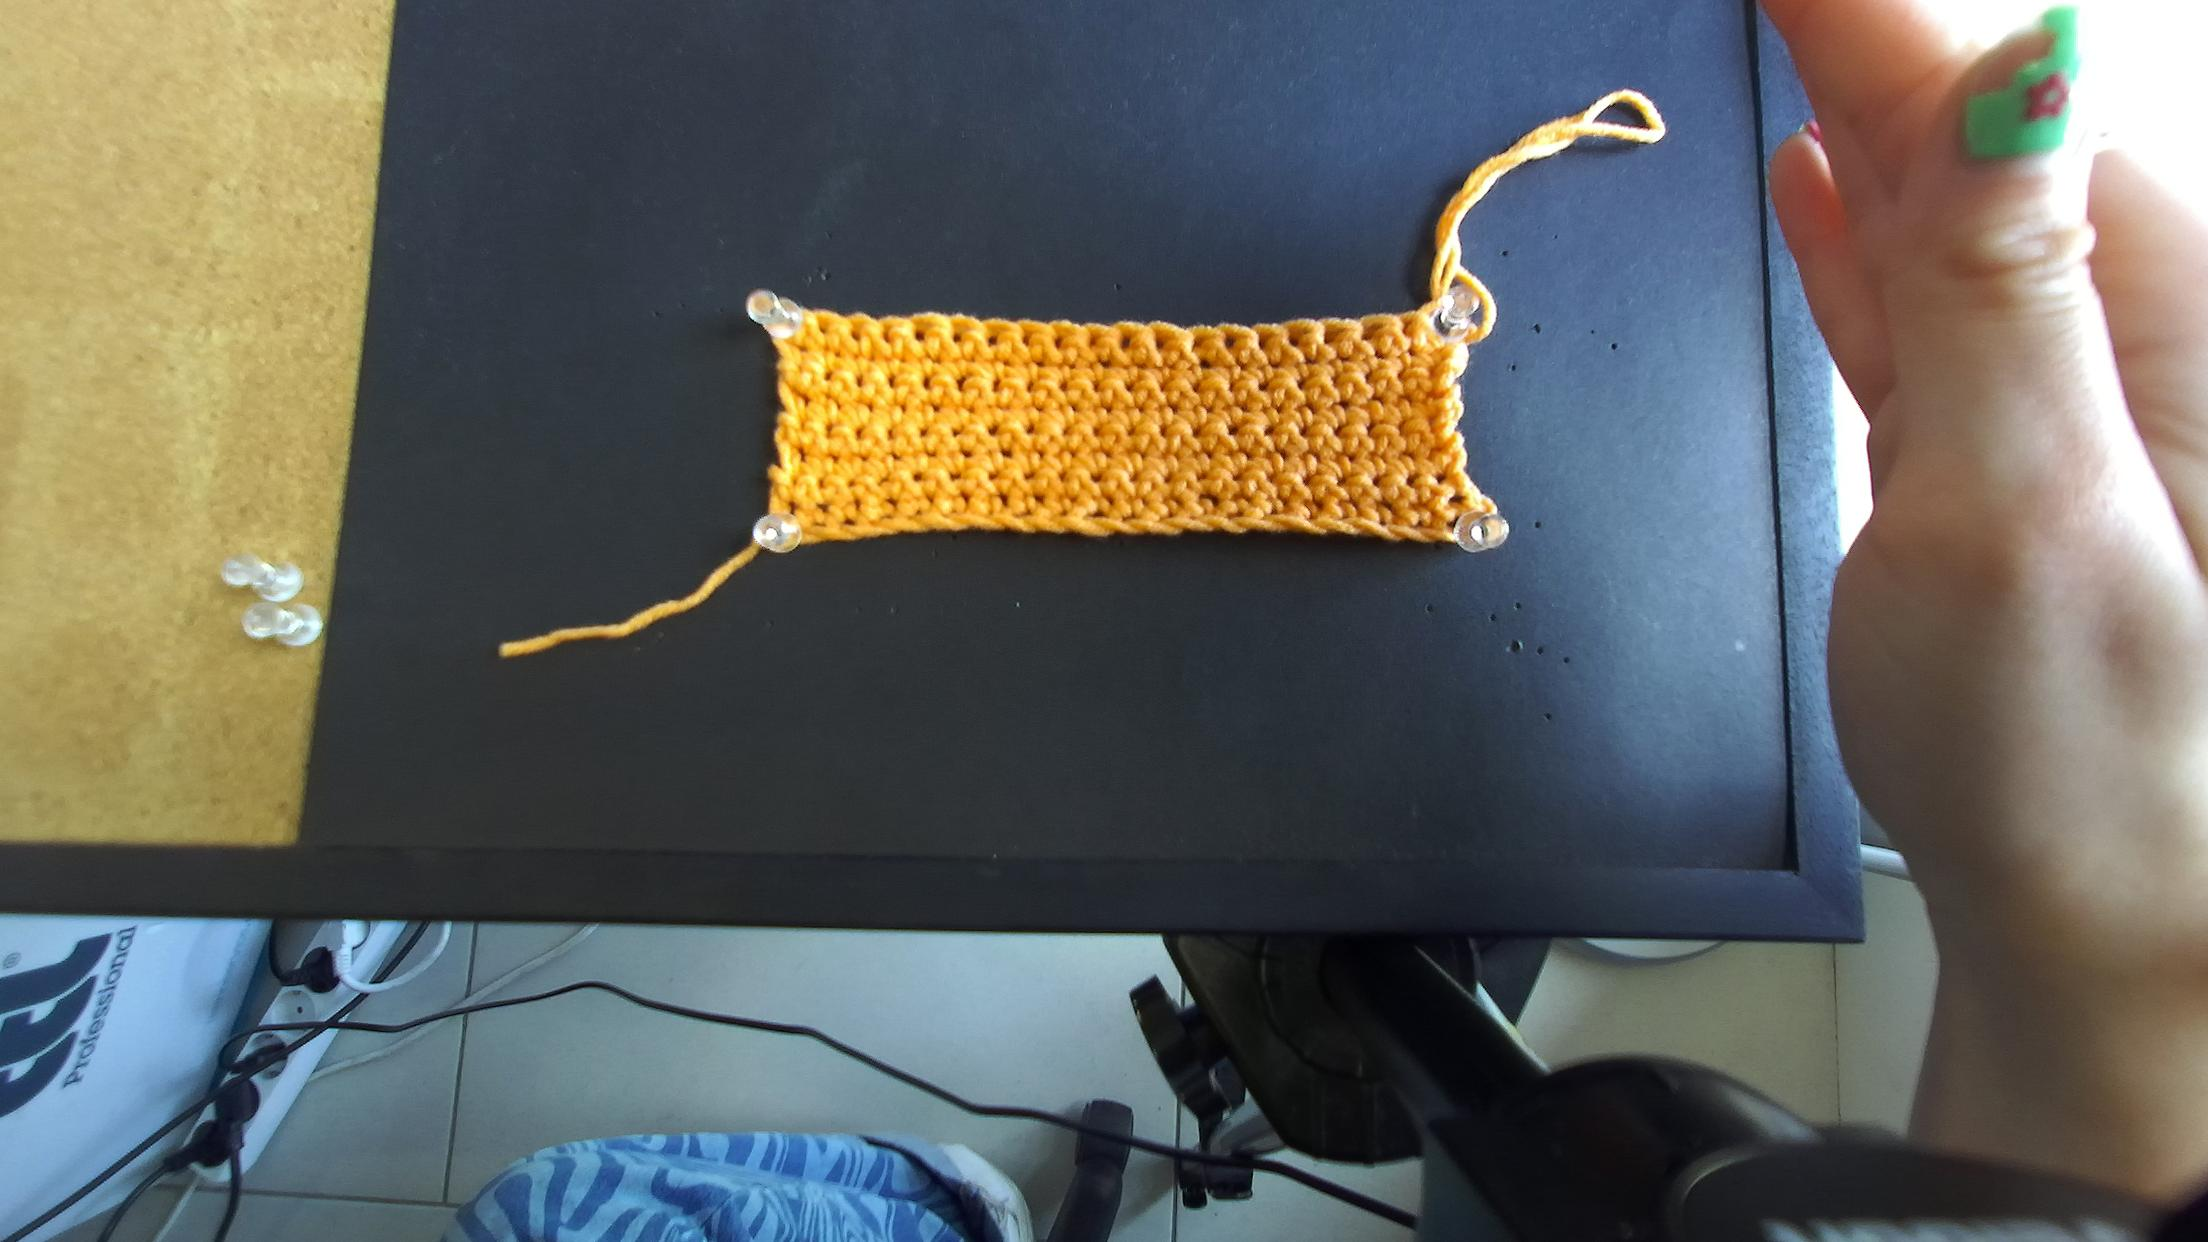hole: (1322, 328, 1347, 346), (1360, 325, 1386, 341), (1286, 329, 1307, 346), (1257, 334, 1275, 350), (1154, 334, 1169, 353), (1089, 334, 1102, 350), (1400, 317, 1412, 335), (1190, 337, 1206, 350), (1222, 335, 1236, 350), (1119, 335, 1131, 352), (881, 328, 892, 346), (1024, 331, 1034, 347), (914, 331, 927, 344), (1052, 337, 1065, 350), (952, 331, 963, 346), (851, 328, 860, 343), (989, 334, 998, 347), (819, 320, 826, 334)
swatch: (752, 258, 1515, 554)
